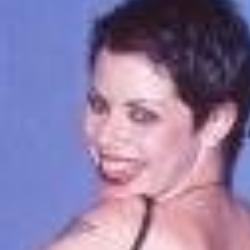face: (70, 2, 248, 220)
